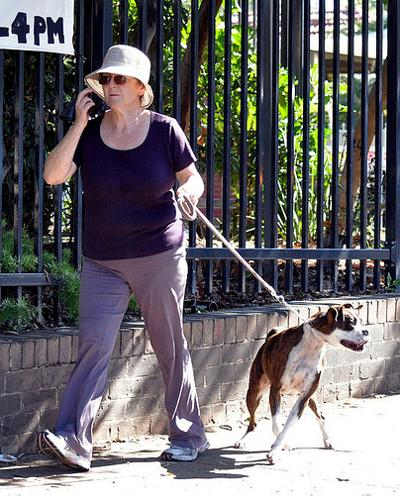person: (45, 42, 216, 470)
